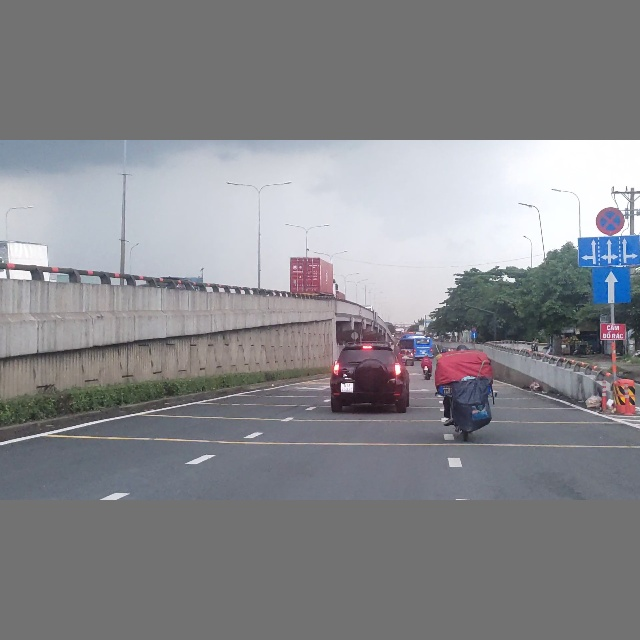I.407a: (592, 267, 633, 302), (471, 332, 478, 339)
P.130: (595, 207, 625, 235)
